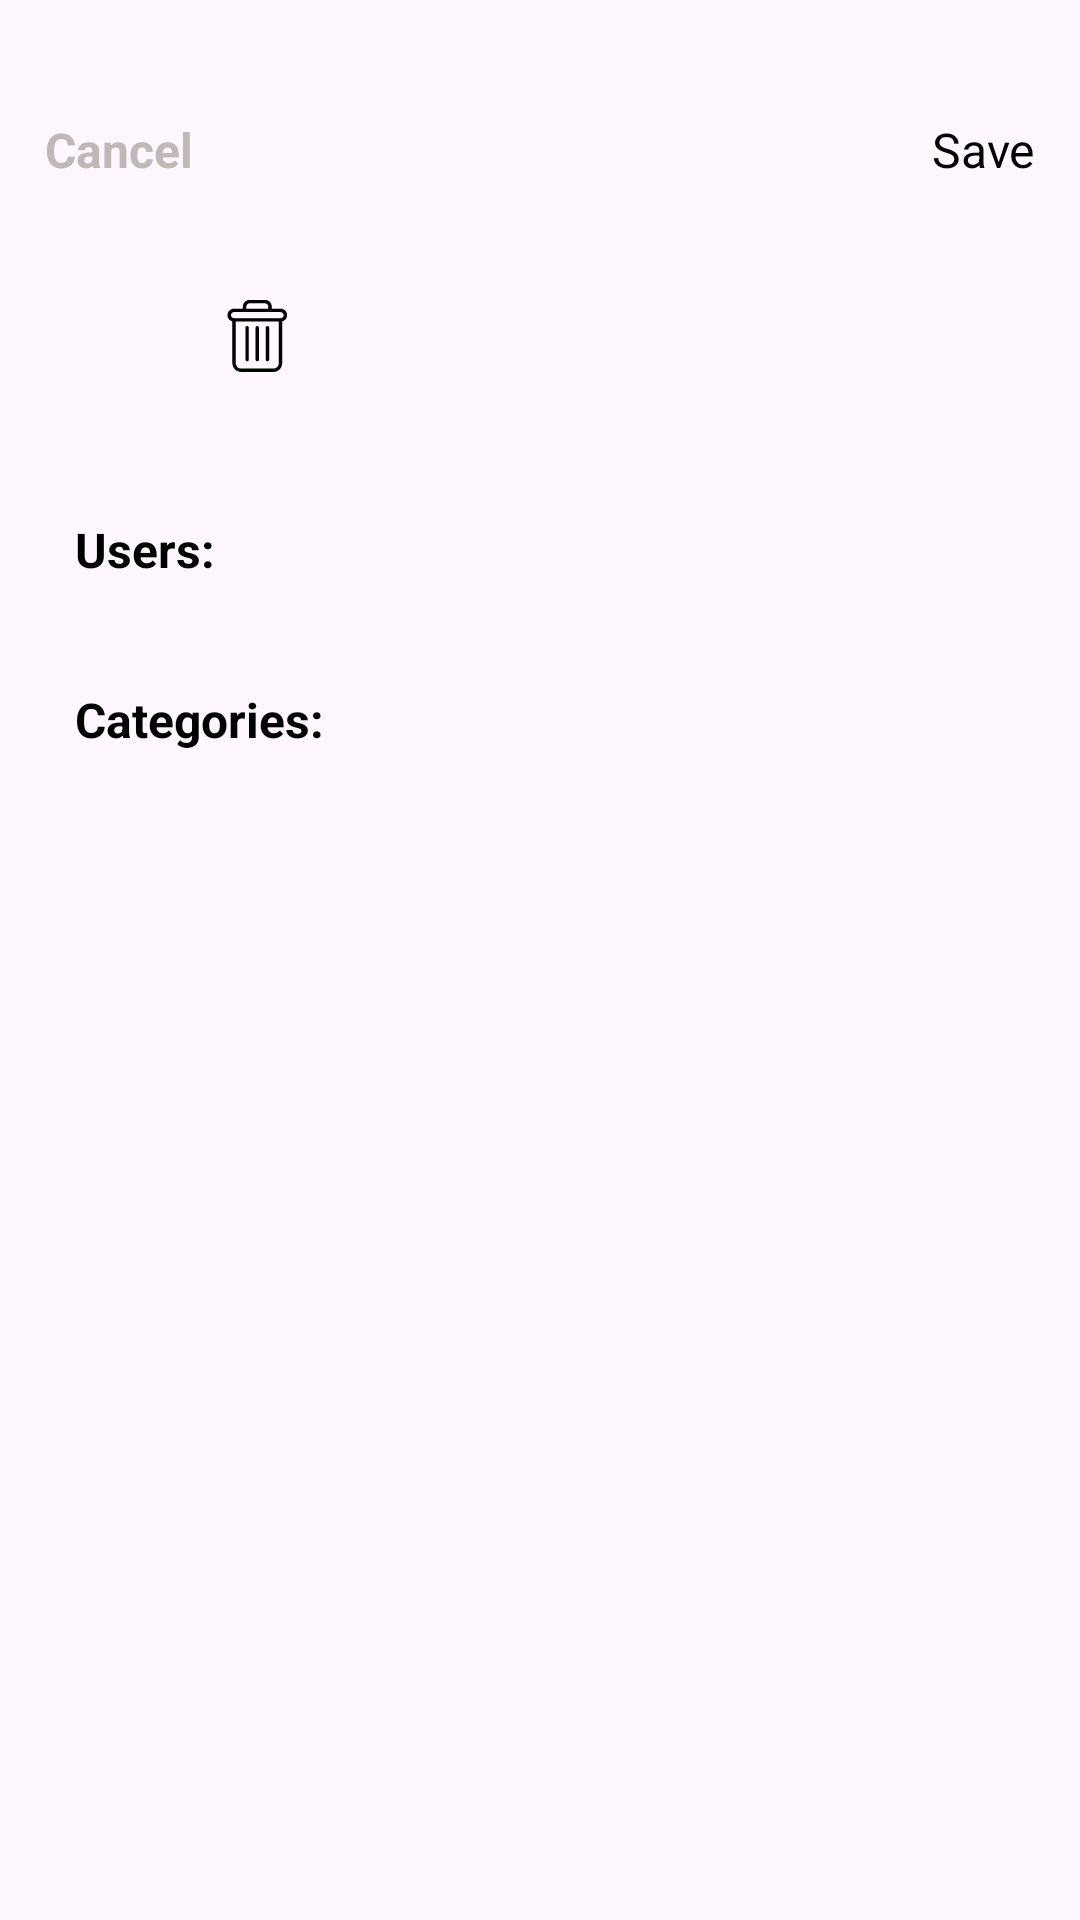

Icons on this 1080*1920 Android screen, each with the point to tap as [x,y]:
delete: [257,336]
